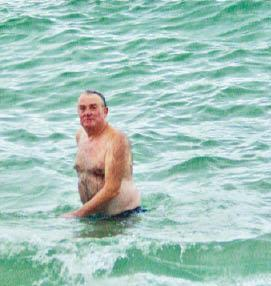human: (64, 86, 138, 221)
